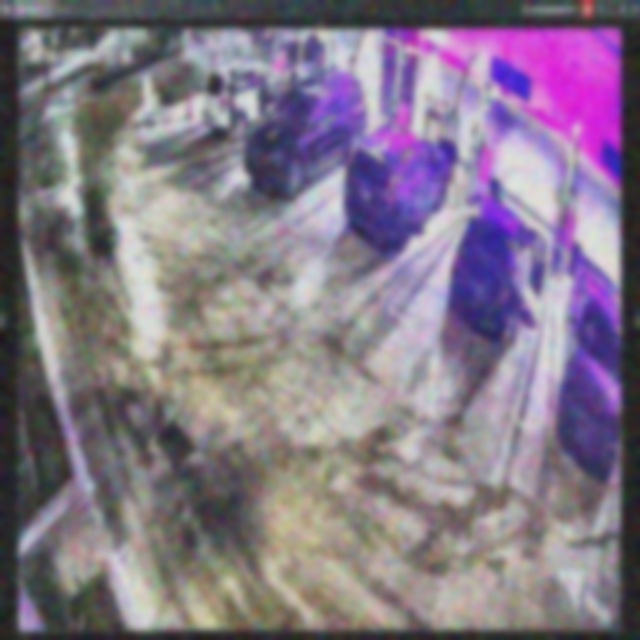Car: (242, 70, 368, 196), (449, 191, 548, 341), (345, 124, 449, 251)
